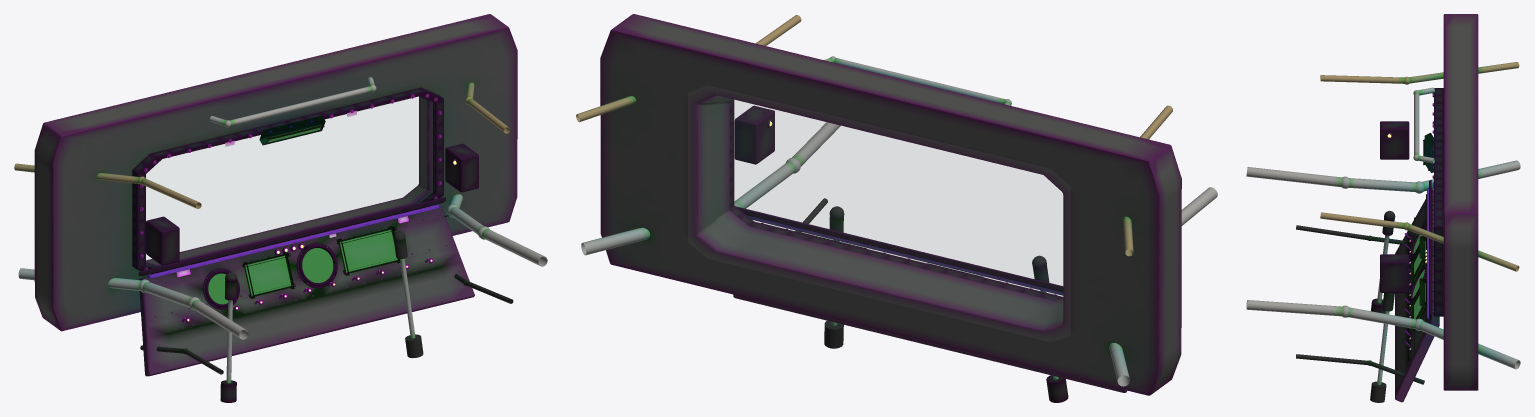
The model's file is vehicle.glb.
3 renders of one model, left to right at view 1: azimuth 30°, elevation 25°; view 2: azimuth 150°, elevation 25°; view 3: azimuth 270°, elevation 25°, orthographic. The views are drawn at different scales.
Visible parts, largest first — view 1: static.paint, glass.port, static.paint_dark, static.steel, static.screen.weapons, static.brass, static.trim, static.screen.hull, grid.anim.lever_r, grid.anim.lever_l, static.screen.radar, static.rubber; view 2: static.paint, glass.port, static.paint_dark, static.steel, static.brass, static.trim, grid.anim.lever_l, grid.anim.lever_r; view 3: static.paint, static.paint_dark, static.steel, static.brass, static.rubber, grid.anim.lever_r, grid.anim.lever_l, static.trim.
Boxes of the visible parts, x1,y1,x2,y2 form: static.paint: [34, 14, 517, 376]; glass.port: [146, 97, 418, 259]; static.paint_dark: [132, 87, 478, 322]; static.steel: [18, 77, 547, 339]; static.screen.weapons: [340, 230, 397, 272]; static.brass: [14, 82, 510, 208]; static.trim: [148, 204, 439, 278]; static.screen.hull: [245, 255, 291, 295]; grid.anim.lever_r: [393, 231, 423, 358]; grid.anim.lever_l: [220, 272, 237, 402]; static.screen.radar: [302, 248, 333, 282]; static.rubber: [140, 274, 513, 374]; static.paint: [600, 14, 1181, 395]; glass.port: [688, 85, 1069, 341]; static.paint_dark: [729, 100, 1063, 300]; static.steel: [581, 56, 1217, 386]; static.brass: [576, 15, 1172, 256]; static.trim: [747, 215, 1063, 295]; grid.anim.lever_l: [1032, 255, 1068, 402]; grid.anim.lever_r: [824, 206, 844, 348]; static.paint: [1395, 14, 1478, 402]; static.paint_dark: [1380, 88, 1443, 368]; static.steel: [1246, 87, 1520, 369]; static.brass: [1320, 62, 1519, 271]; static.rubber: [1296, 225, 1424, 384]; grid.anim.lever_r: [1370, 293, 1394, 402]; grid.anim.lever_l: [1371, 210, 1395, 313]; static.trim: [1427, 187, 1429, 318].
Bounding box in the file's own units: 1.99 × 1.11 × 1.11.
